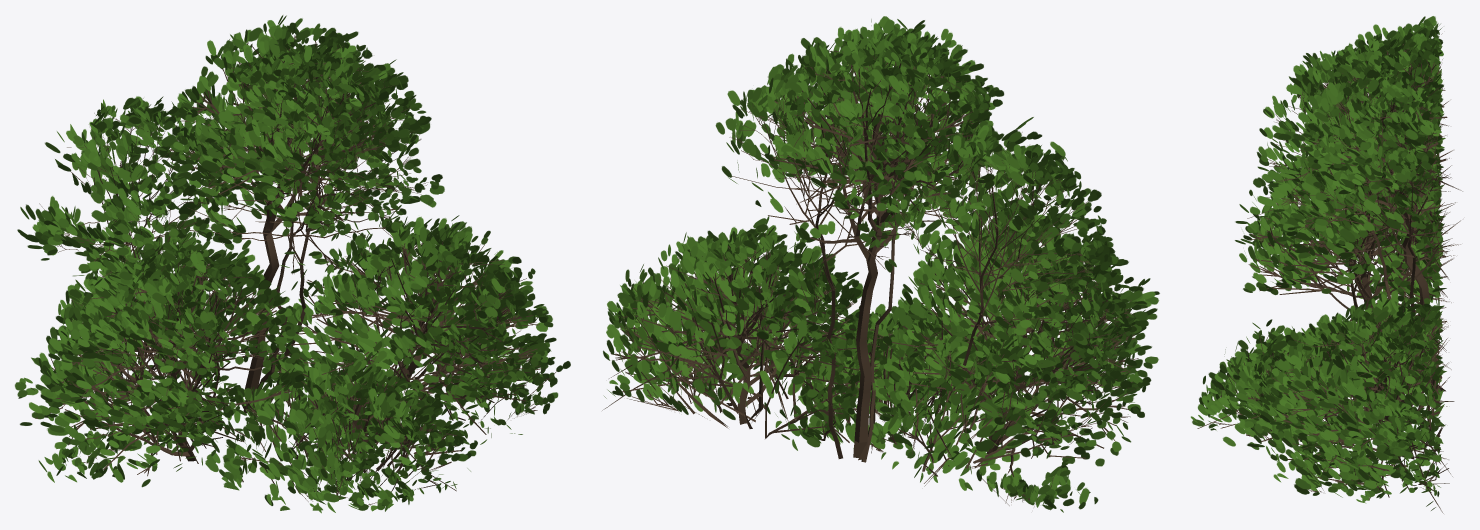
The picture shows the model from 3 angles, left to right: view 1: azimuth 30°, elevation 25°; view 2: azimuth 150°, elevation 25°; view 3: azimuth 270°, elevation 25°; orthographic projection. The views are drawn at different scales.
Parts seen in each view (by area): view 1: oak 01.001_trunk_Mat.001_0.259; view 2: oak 01.001_trunk_Mat.001_0.259; view 3: oak 01.001_trunk_Mat.001_0.259.
Part boxes in pixels (x1,y1,x2,y2): oak 01.001_trunk_Mat.001_0.259: [14, 15, 570, 513]; oak 01.001_trunk_Mat.001_0.259: [602, 16, 1159, 512]; oak 01.001_trunk_Mat.001_0.259: [1190, 16, 1462, 513].
Size of the model in its own units: 4.14 by 3.28 by 2.14.
2 materials, 1 textured.
